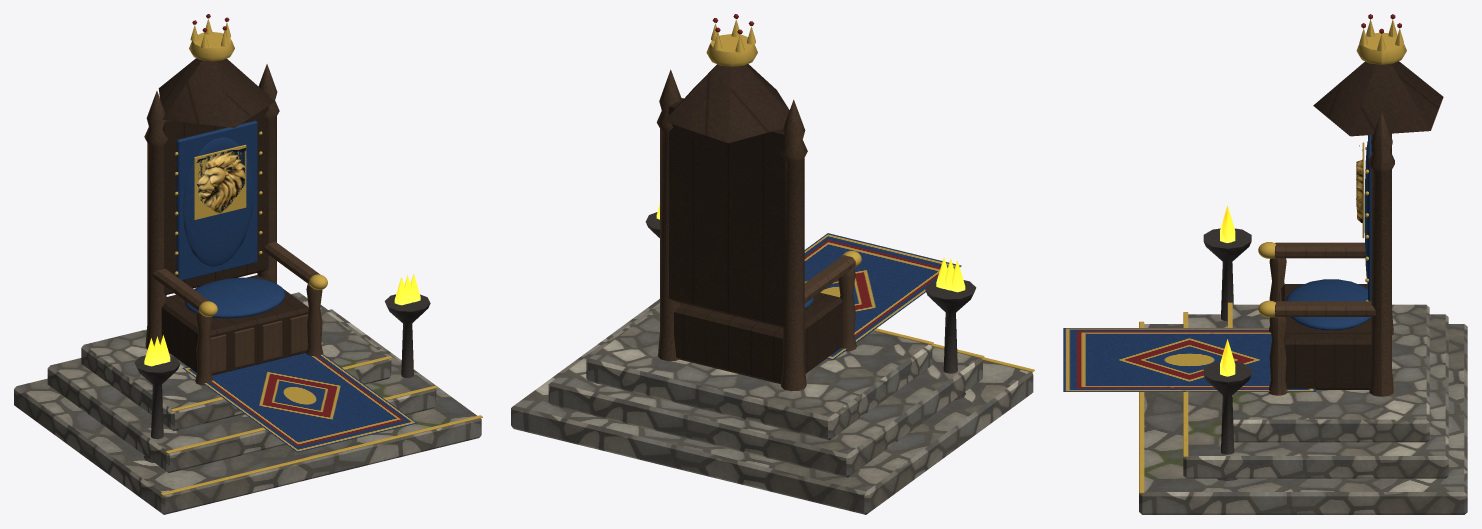
Rendered from throne_dais.glb.
The picture shows the model from 3 angles, left to right: view 1: azimuth 30°, elevation 25°; view 2: azimuth 150°, elevation 25°; view 3: azimuth 270°, elevation 25°; orthographic projection. The views are drawn at different scales.
Parts seen in each view (by area): view 1: throne_dais; view 2: throne_dais; view 3: throne_dais.
Boxes of the visible parts, left/top/right/bottom form: throne_dais: left=14, top=14, right=482, bottom=514; throne_dais: left=511, top=14, right=1034, bottom=514; throne_dais: left=1063, top=14, right=1467, bottom=514.
Size of the model in its own units: 3.2 by 3.58 by 3.2.
1 material, 1 textured.
